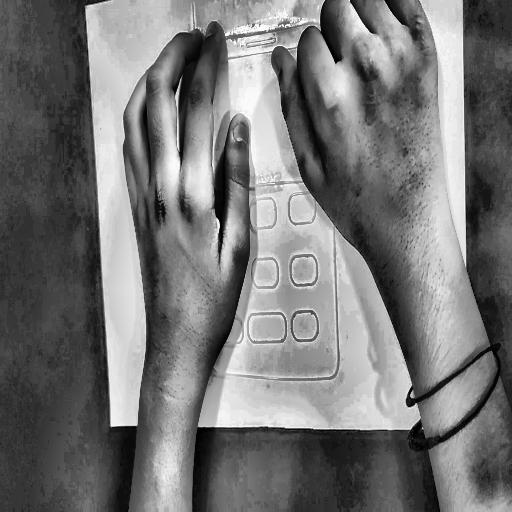bottom_left: (109, 422, 114, 431)
bottom_right: (466, 416, 474, 430)
mobile: (185, 0, 353, 392)
top_left: (83, 3, 88, 11)
